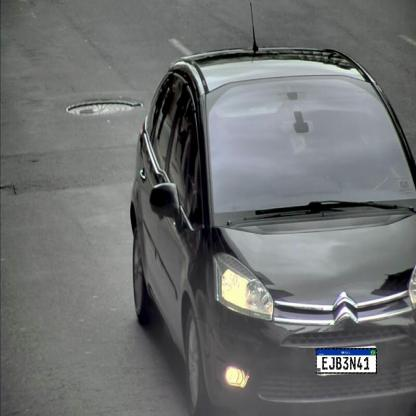PlacaM: (316, 348, 377, 374)
